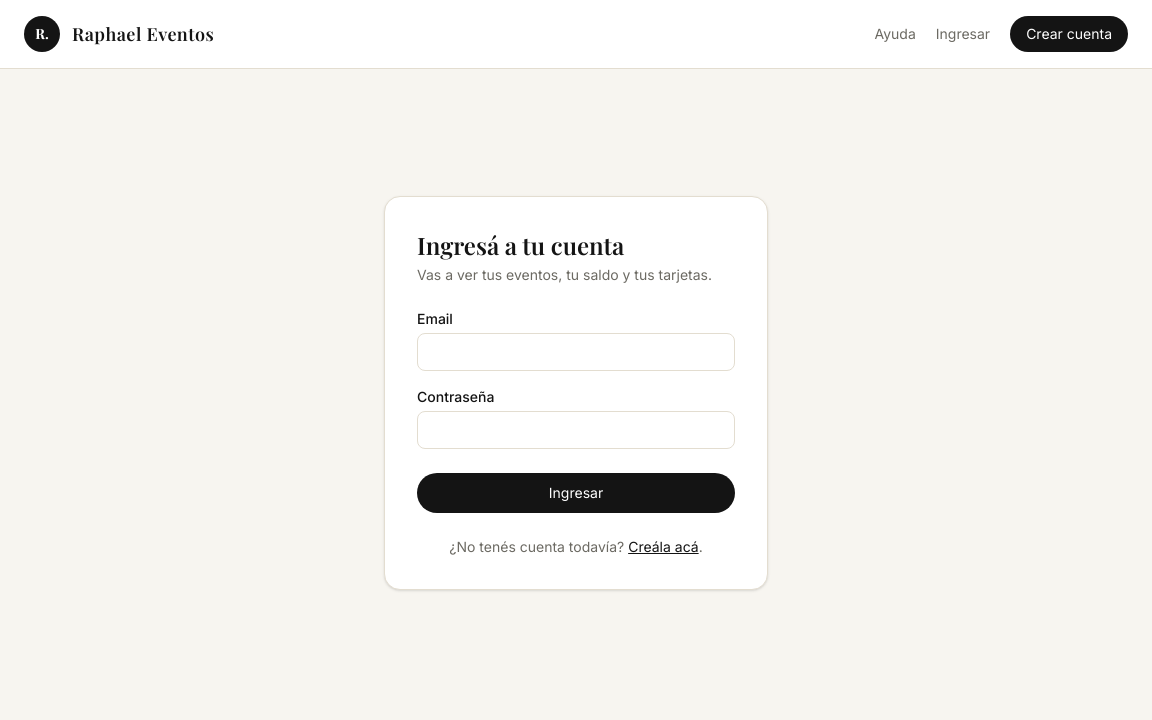
Test: LoginPage › con credenciales correctas guarda la sesión y redirige a /portal
Type "cami@example.com" into the field labelled "Email" at (576, 352), box [417,332,735,370]
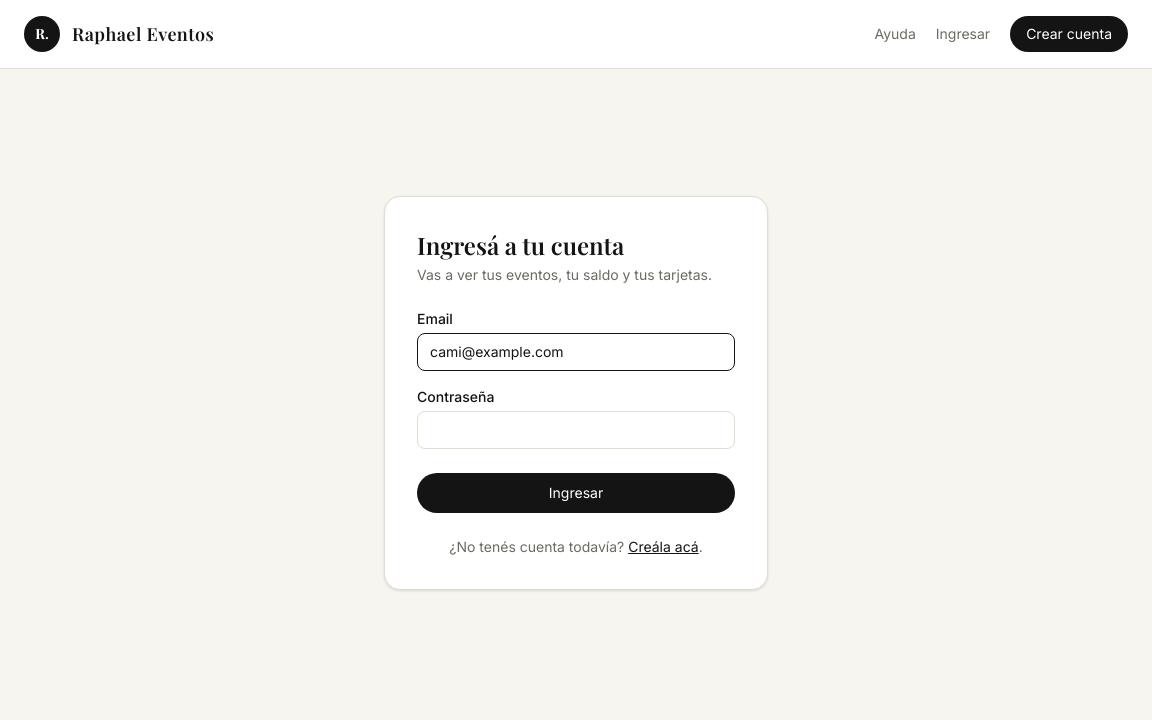
Type "unaClaveSegura123" into the password field labelled "Contraseña" at (576, 430), box [417,410,735,448]
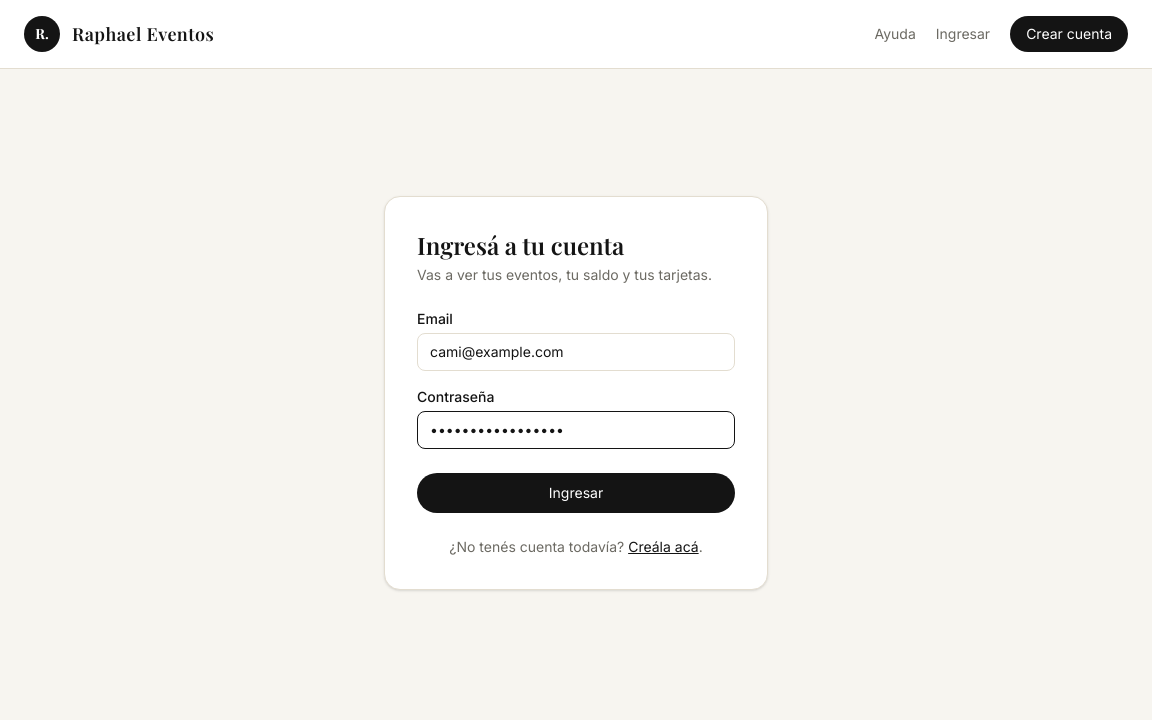
Click the button "Ingresar" at (576, 492), box [417,472,735,512]
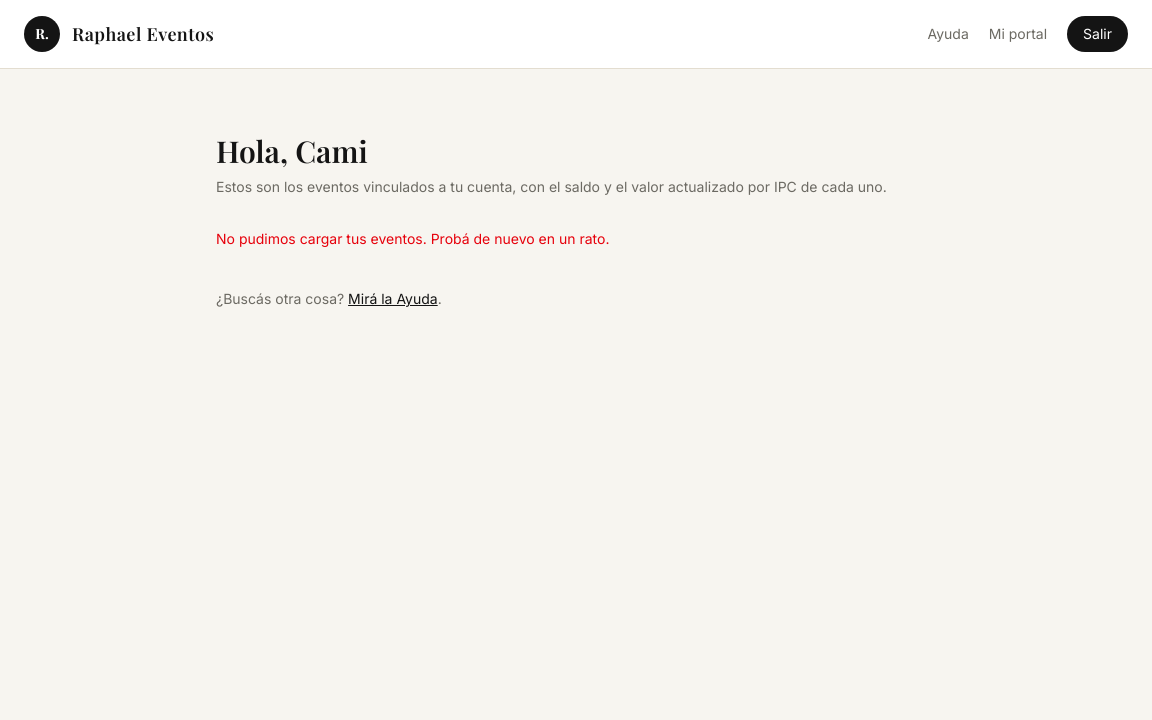
Expected: the heading "Hola, Cami" is shown, [216,131,368,171]
